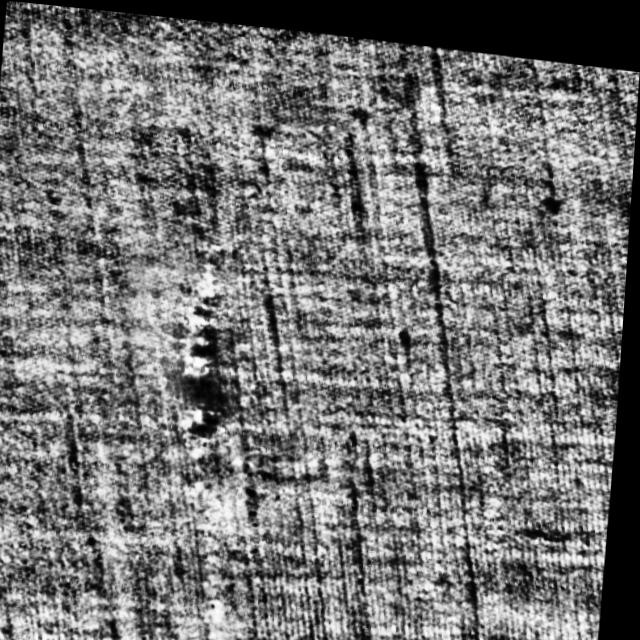Stitch: (156, 249, 257, 454)
